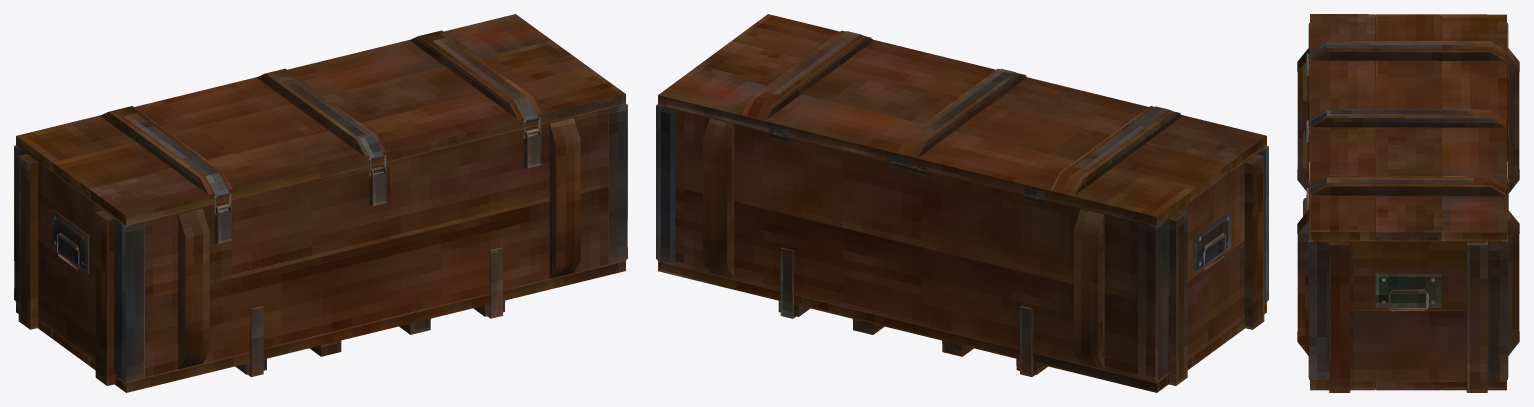
Rendered from wooden_military_crate.glb.
3 renders of one model, left to right at view 1: azimuth 30°, elevation 25°; view 2: azimuth 150°, elevation 25°; view 3: azimuth 270°, elevation 25°, orthographic. The views are drawn at different scales.
Visible parts, largest first — view 1: wooden_military_crate; view 2: wooden_military_crate; view 3: wooden_military_crate.
Boxes of the visible parts, left/top/right/bottom form: wooden_military_crate: left=14, top=14, right=627, bottom=392; wooden_military_crate: left=656, top=14, right=1268, bottom=392; wooden_military_crate: left=1297, top=14, right=1519, bottom=392.
Bounding box in the file's own units: 1.24 × 0.4642 × 0.5171.
Materials: 1 (1 with a texture image).
